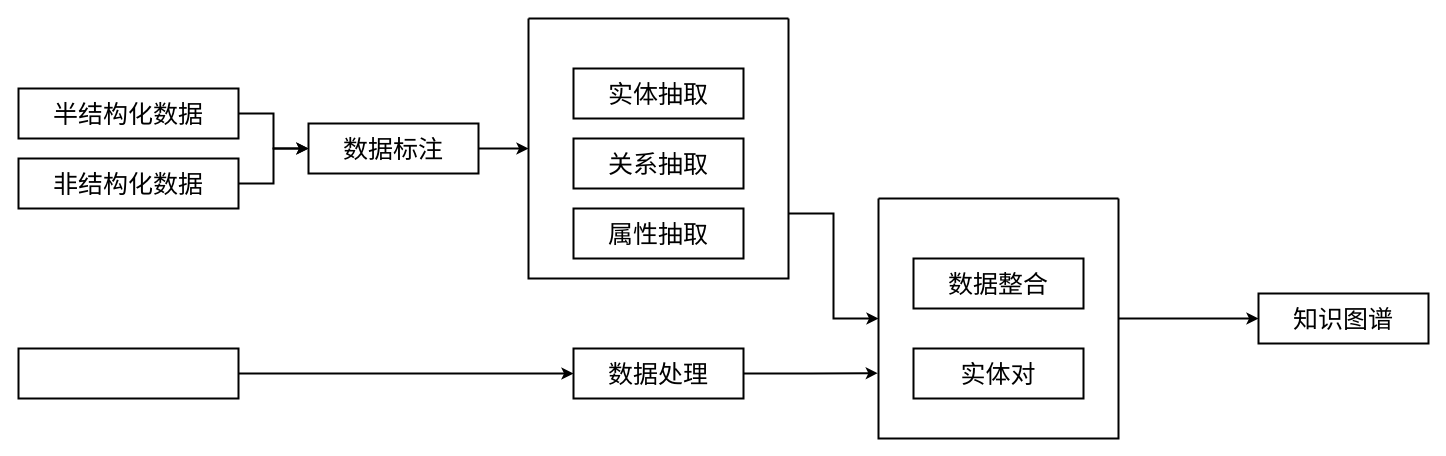
This 1446x456 diagram has some shape labels left out. The centre of each missing label's shape, as x and y in pixels:
知识抽取: [658,148]
知识融合: [998,318]
结构化数据: [128,373]
